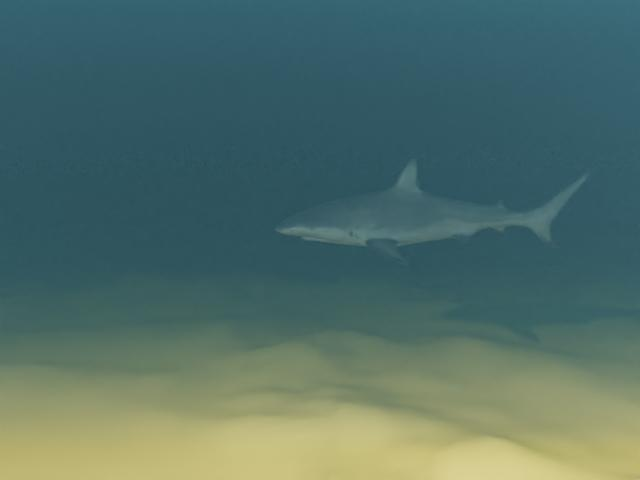Carribean Shark.001: (274, 157, 595, 265)
